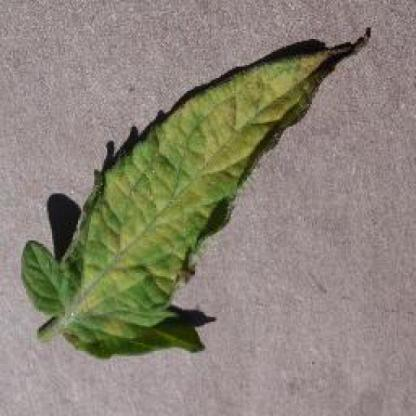Tomato_Leaf_Mold: (58, 27, 370, 352)
